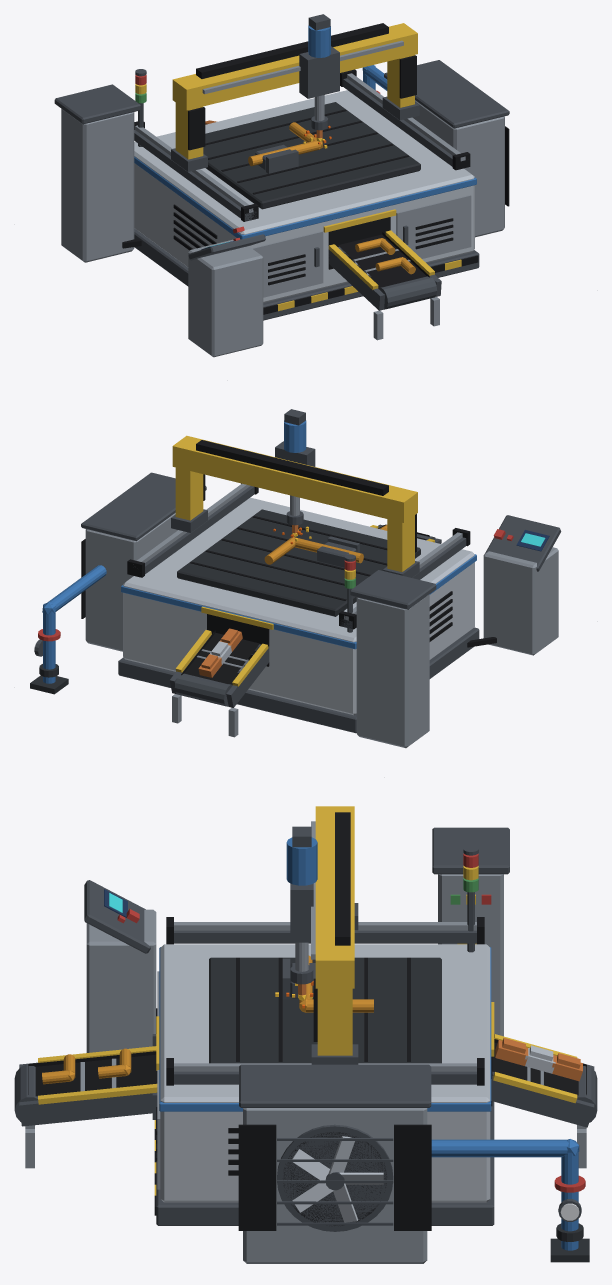
Rendered from constructeur_t2.glb.
The picture shows the model from 3 angles, top to bottom: view 1: azimuth 30°, elevation 25°; view 2: azimuth 150°, elevation 25°; view 3: azimuth 270°, elevation 25°; orthographic projection. The views are drawn at different scales.
Parts seen in each view (by area): view 1: bati.004, pieces_acier.015, table.002, armoire.008, pieces_noir.015, pieces_acier_sombre.015, portique_jaune.002, refroidisseur.002, refroidisseur_toit.002, portique_noir.002, bati_socle.002, bati_bandeau.002 (+8 smaller); view 2: bati.004, table.002, armoire.008, portique_jaune.002, pieces_acier.015, pieces_acier_sombre.015, pieces_noir.015, refroidisseur.002, bati_socle.002, refroidisseur_toit.002, portique_noir.002, armoire_toit.008 (+9 smaller); view 3: bati.004, table.002, pieces_acier_sombre.015, pieces_noir.015, pieces_acier.015, refroidisseur.002, refroidisseur_toit.002, portique_jaune.002, ventilateur_cadre.004, armoire.008, bati_socle.002, pieces_bleu.010 (+14 smaller).
Boxes of the visible parts, bbox=[...] form: bati.004: bbox=[134, 90, 474, 302]; pieces_acier.015: bbox=[135, 73, 471, 357]; table.002: bbox=[203, 102, 420, 209]; armoire.008: bbox=[61, 109, 134, 262]; pieces_noir.015: bbox=[122, 69, 509, 314]; pieces_acier_sombre.015: bbox=[134, 69, 452, 310]; portique_jaune.002: bbox=[172, 23, 417, 159]; refroidisseur.002: bbox=[412, 100, 504, 237]; refroidisseur_toit.002: bbox=[384, 60, 509, 128]; portique_noir.002: bbox=[188, 23, 416, 150]; bati_socle.002: bbox=[134, 228, 479, 320]; bati_bandeau.002: bbox=[134, 156, 476, 239]; bati.004: bbox=[123, 497, 474, 715]; table.002: bbox=[177, 509, 420, 616]; armoire.008: bbox=[356, 594, 429, 748]; portique_jaune.002: bbox=[172, 435, 417, 571]; pieces_acier.015: bbox=[133, 483, 558, 737]; pieces_acier_sombre.015: bbox=[145, 486, 561, 707]; pieces_noir.015: bbox=[81, 483, 496, 684]; refroidisseur.002: bbox=[85, 513, 177, 651]; bati_socle.002: bbox=[118, 627, 479, 733]; refroidisseur_toit.002: bbox=[81, 472, 206, 541]; portique_noir.002: bbox=[196, 440, 416, 552]; armoire_toit.008: bbox=[350, 570, 436, 609]; bati.004: bbox=[160, 944, 490, 1202]; table.002: bbox=[209, 957, 441, 1063]; pieces_acier_sombre.015: bbox=[14, 845, 597, 1225]; pieces_noir.015: bbox=[28, 917, 586, 1230]; pieces_acier.015: bbox=[25, 909, 586, 1189]; refroidisseur.002: bbox=[243, 1108, 427, 1263]; refroidisseur_toit.002: bbox=[239, 1064, 431, 1107]; portique_jaune.002: bbox=[315, 806, 354, 1055]; ventilateur_cadre.004: bbox=[277, 1124, 393, 1231]; armoire.008: bbox=[438, 874, 503, 1036]; bati_socle.002: bbox=[156, 1101, 494, 1225]; pieces_bleu.010: bbox=[431, 1139, 579, 1250].
Bounding box in the file's own units: 2 × 1.22 × 2.
